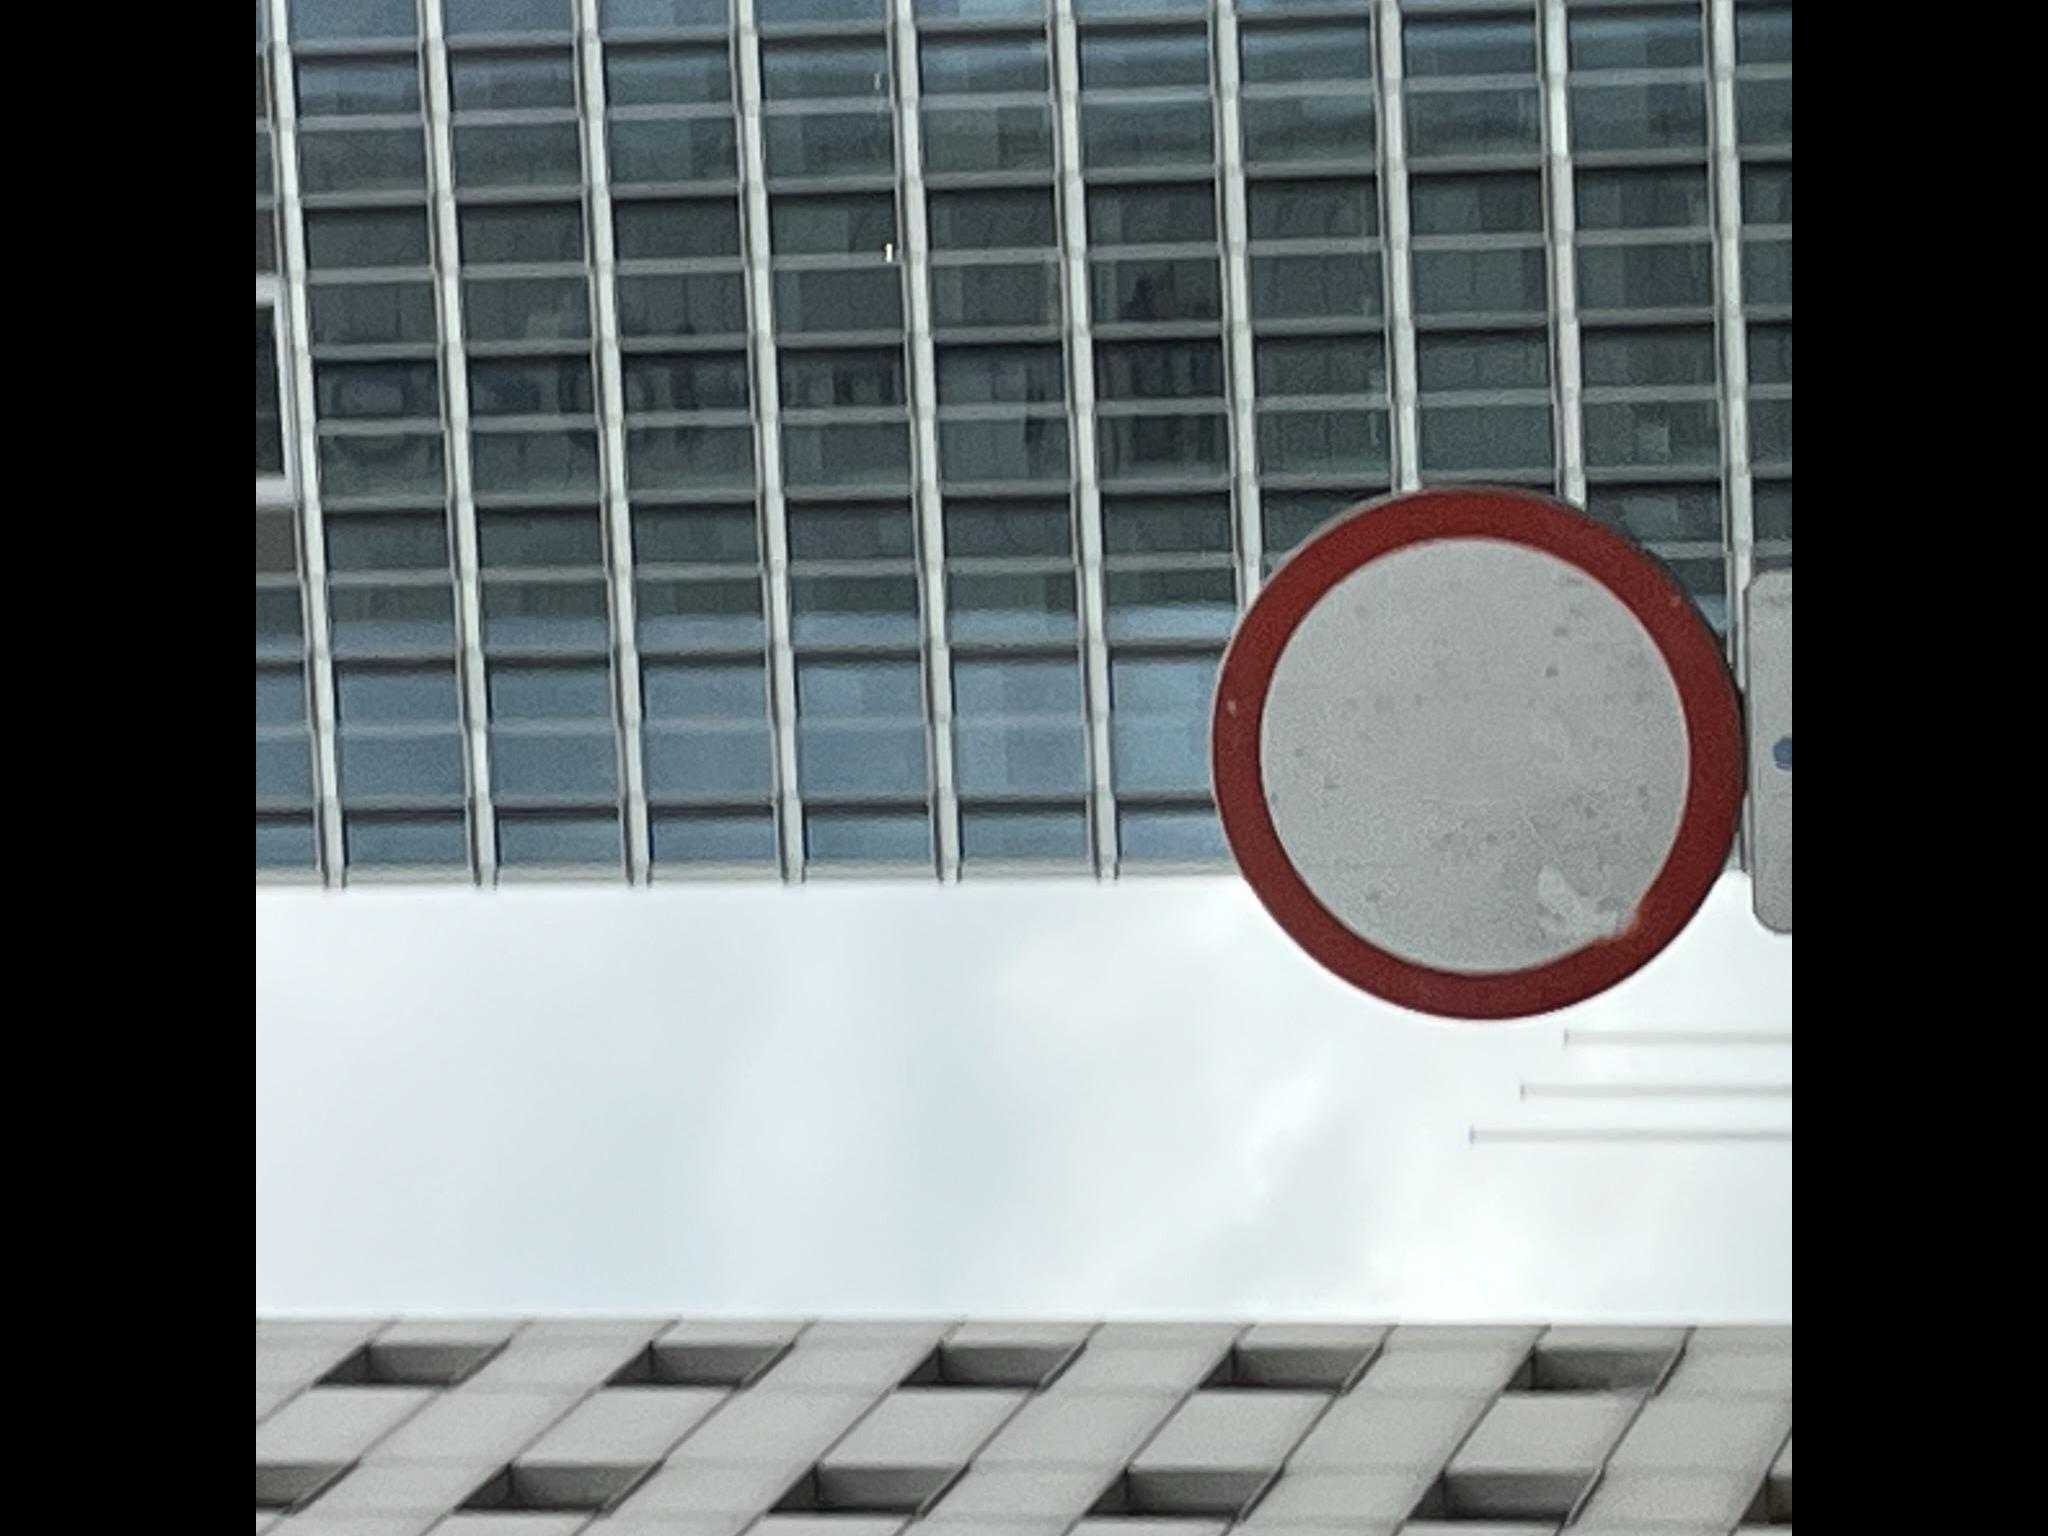prohibitory: (1208, 478, 1748, 1025)
